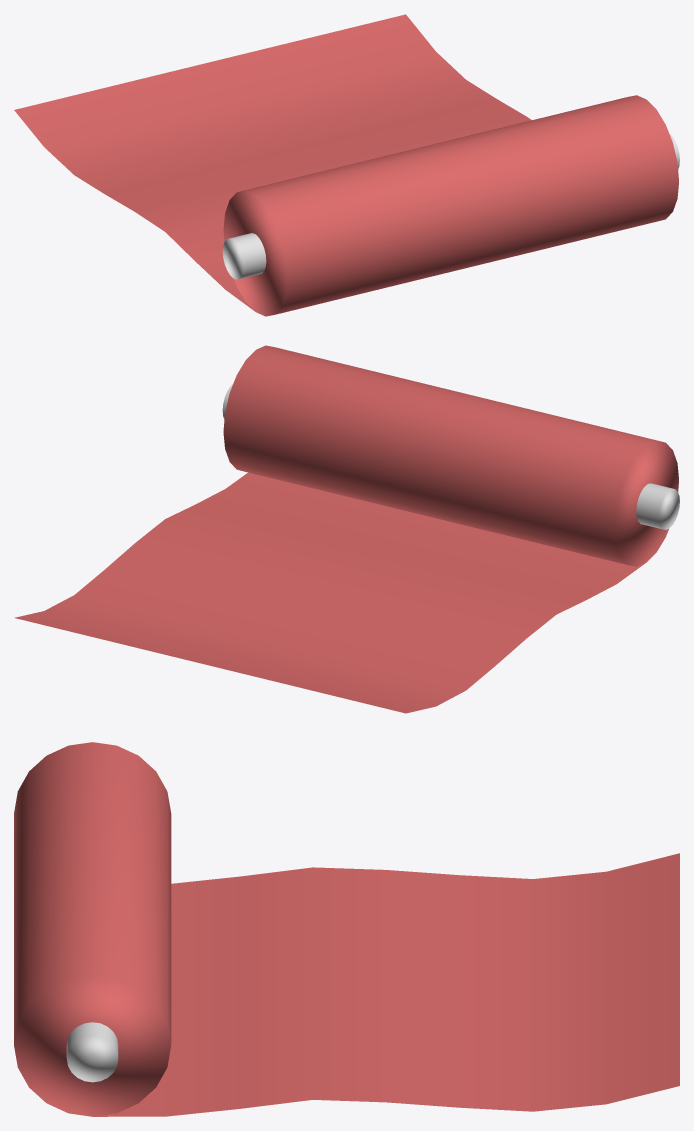
3 renders of one model, top to bottom at view 1: azimuth 30°, elevation 25°; view 2: azimuth 150°, elevation 25°; view 3: azimuth 270°, elevation 25°, orthographic. The views are drawn at different scales.
Parts seen in each view (by area): view 1: pCube2; view 2: pCube2; view 3: pCube2.
Part boxes in pixels (x1,y1,x2,y2): pCube2: (14, 14, 679, 316); pCube2: (14, 345, 679, 713); pCube2: (14, 742, 679, 1116).
Size of the model in its own units: 6.01 by 1.54 by 6.53.
